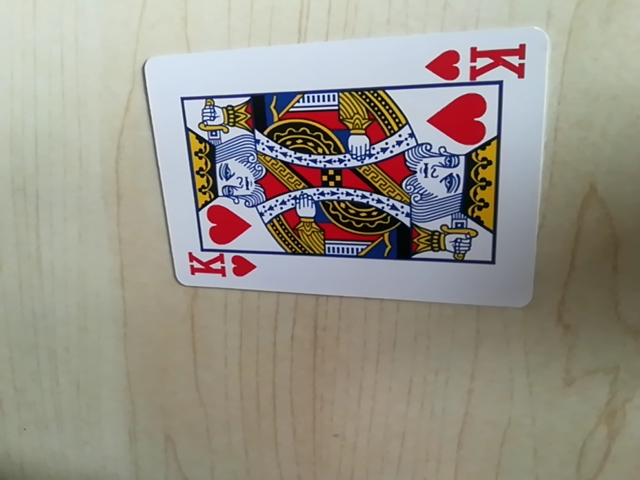hx k: (426, 39, 529, 87), (183, 252, 258, 287)
